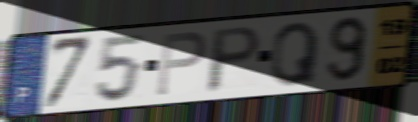5: (95, 32, 150, 104)
7: (41, 34, 95, 113)
9: (325, 13, 370, 86)
P: (203, 24, 265, 96), (154, 30, 209, 99)
Q: (269, 19, 322, 89)
